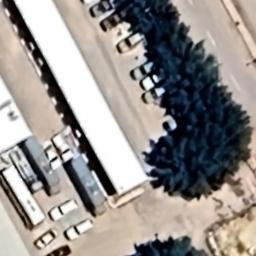sedan: (38, 140, 64, 170), (28, 228, 60, 250)
truck: (51, 133, 78, 164)
unknown: (41, 240, 74, 256)
van: (42, 196, 78, 224), (64, 216, 98, 244), (116, 31, 148, 55), (128, 57, 158, 81), (142, 85, 170, 105), (140, 72, 166, 90)
